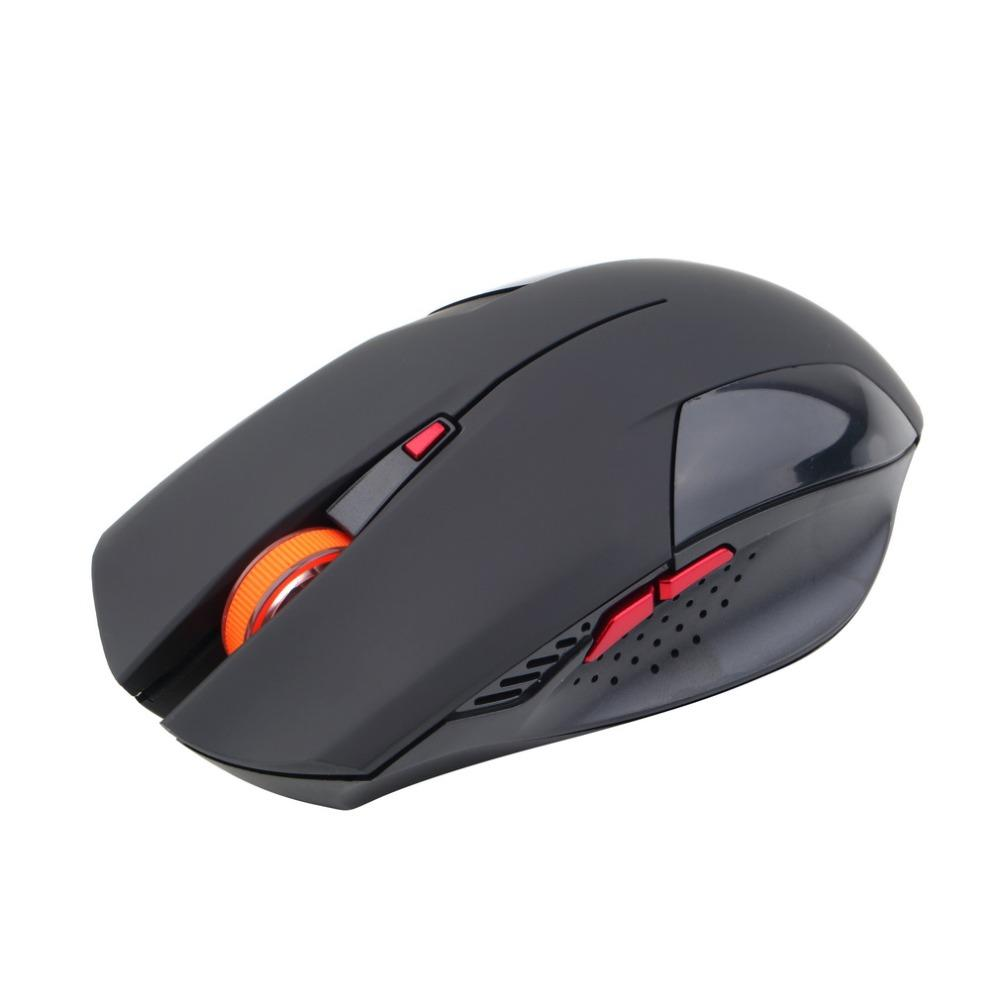computer mouse: (89, 259, 925, 815)
